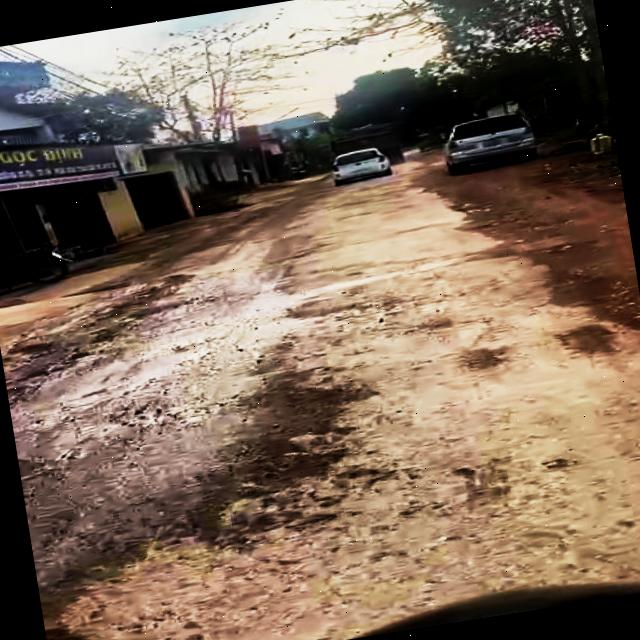pothole: (42, 607, 97, 640)
